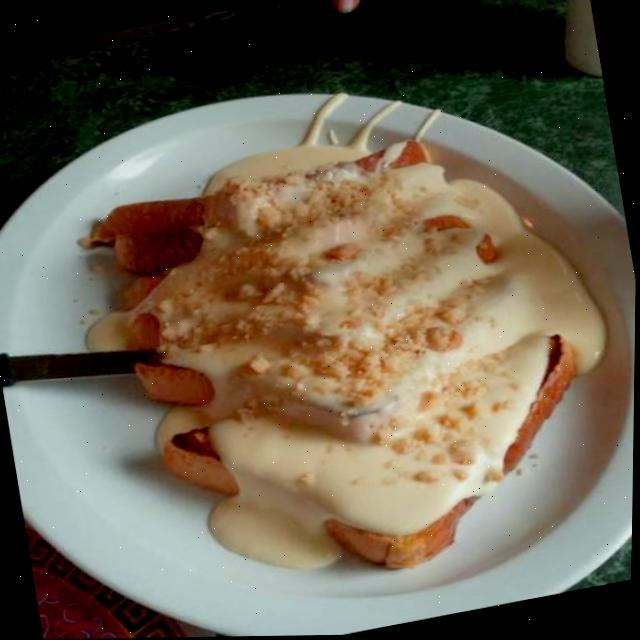面包点心: (0, 19, 640, 640)
